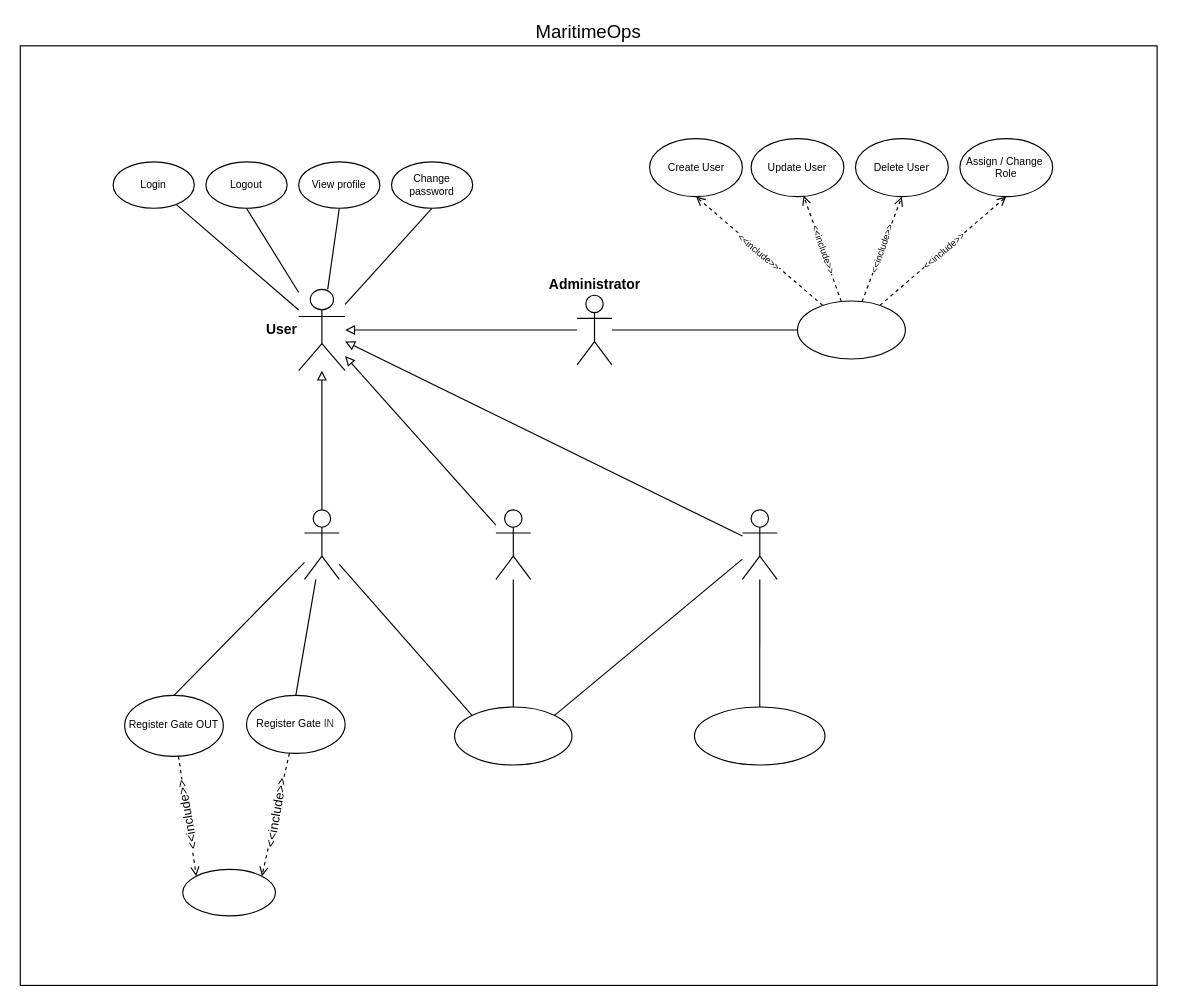
The diagram is 1177 pixels wide and 1006 high, and some of its shapes have lost their labels. Each missing label, with the centre of its shape:
"Customer / Line Agent" goes at pixel 513 544.
"Gate Operator" goes at pixel 321 544.
"Manage Users" goes at pixel 850 329.
"Manage Vessel Visits" goes at pixel 759 735.
"Terminal Operator" goes at pixel 759 544.
"Validate Container" goes at pixel 229 892.
"View Containers" goes at pixel 512 735.
